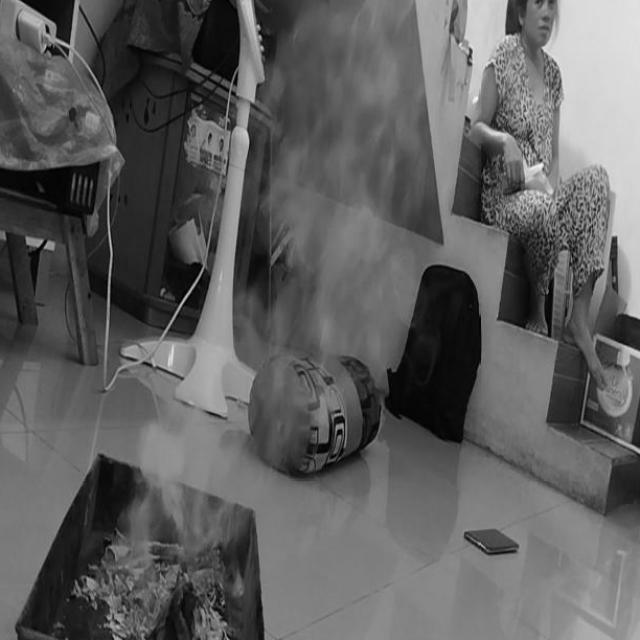fire: (289, 0, 406, 381), (155, 426, 226, 536)
